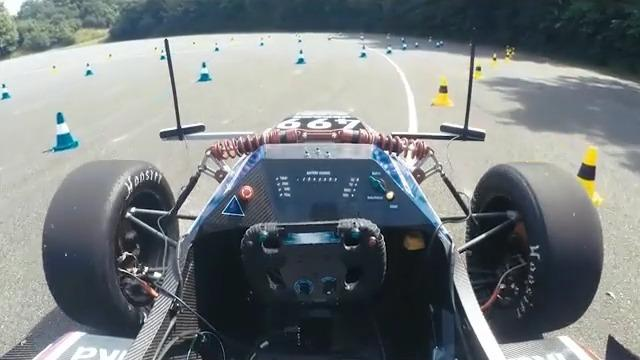blue_cone: (52, 112, 79, 154), (198, 61, 212, 82), (0, 83, 12, 100), (295, 49, 307, 65), (359, 45, 368, 58), (85, 63, 94, 76)
yellow_cone: (562, 145, 603, 207), (432, 76, 454, 107)
